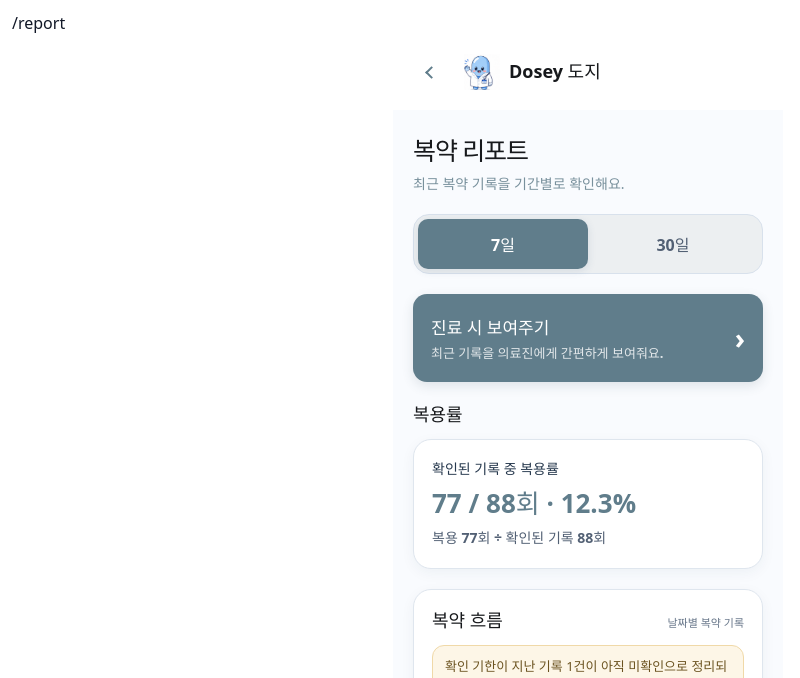
Test: Plan B 복약 리포트 › 7일·30일 버튼의 accessible state를 표시하고 전환 시 서버를 다시 조회한다
Step 1. Click the button "30일" → x=673, y=244, box [588,219,758,269]
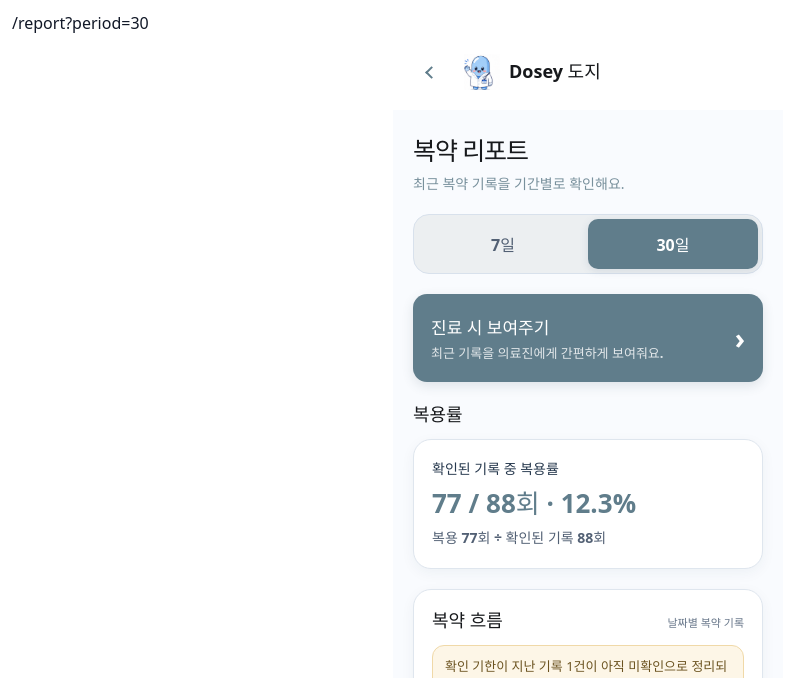
Expected: the text with test id "location" reads "/report?period=30", [12,12,149,34]
